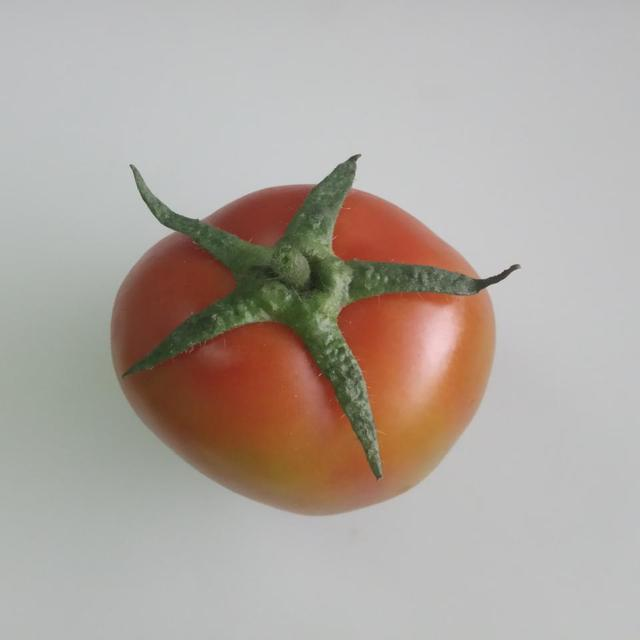Healthy Fruit: (73, 118, 333, 345)
